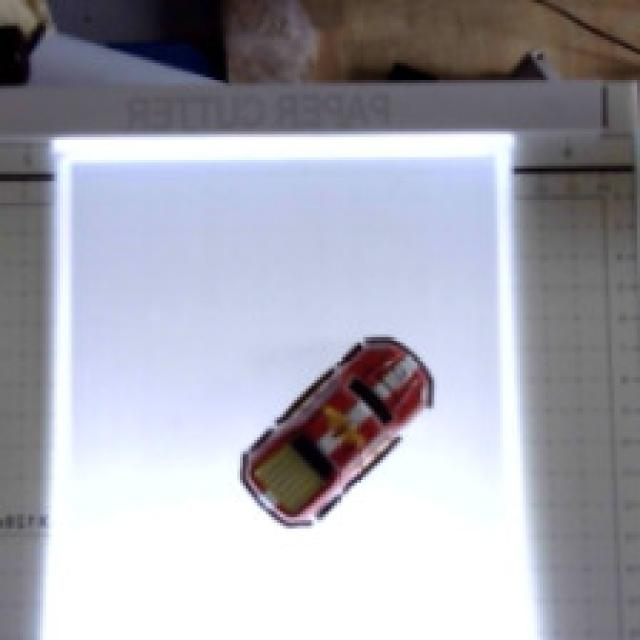Red Car: (240, 312, 457, 534)
